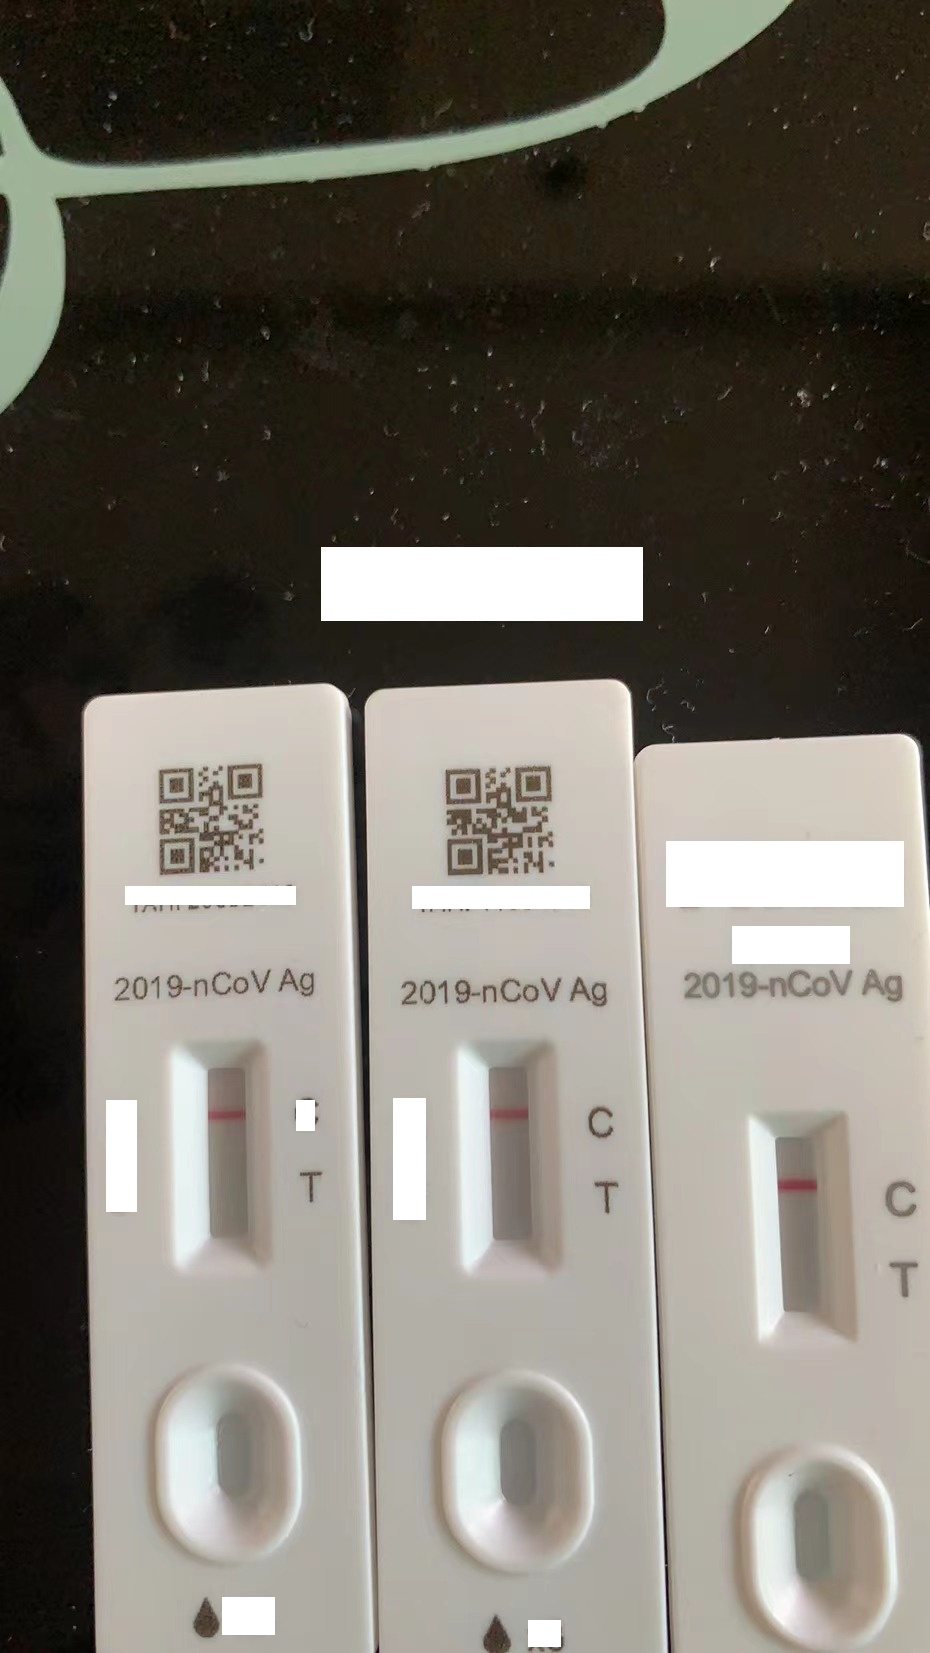negative: (754, 1107, 851, 1352), (466, 1040, 558, 1279), (178, 1038, 269, 1277)
